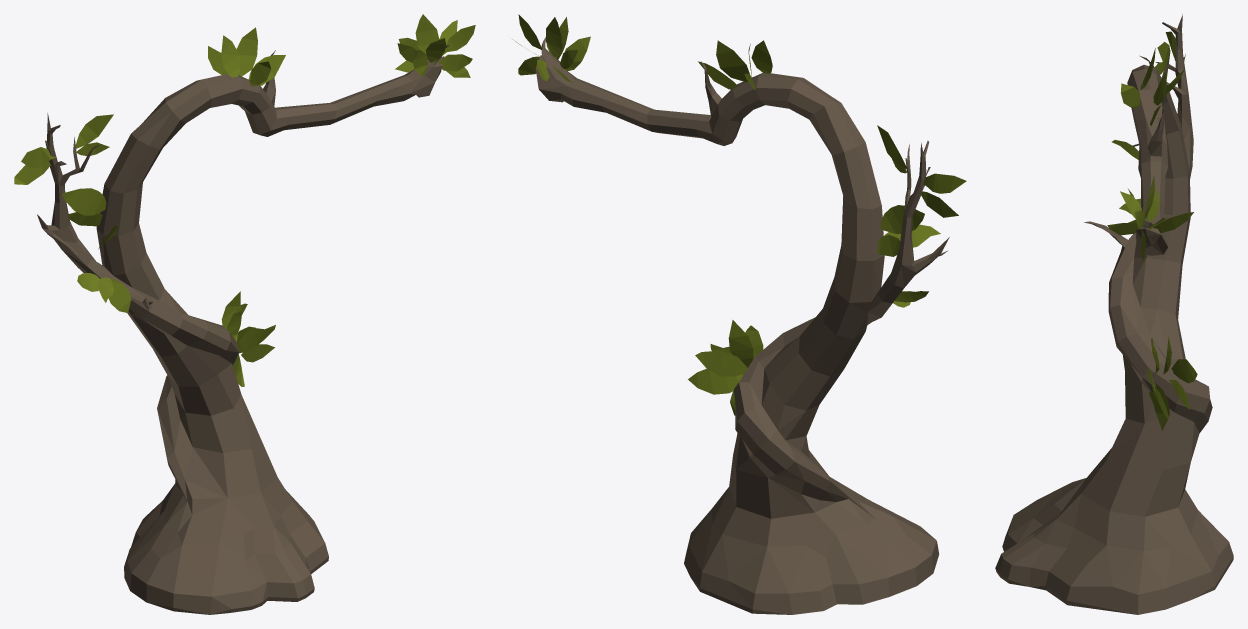
File: Bird_Stand_001.fbx
3 renders of one model, left to right at view 1: azimuth 30°, elevation 25°; view 2: azimuth 150°, elevation 25°; view 3: azimuth 270°, elevation 25°, orthographic. The views are drawn at different scales.
Visible parts, largest first — view 1: Bird_Stand_001; view 2: Bird_Stand_001; view 3: Bird_Stand_001.
Boxes of the visible parts, x1=… form: Bird_Stand_001: x1=14, y1=14, x2=475, y2=614; Bird_Stand_001: x1=512, y1=14, x2=966, y2=614; Bird_Stand_001: x1=995, y1=14, x2=1233, y2=614.
Bounding box in the file's own units: 156 × 173 × 70.78.
